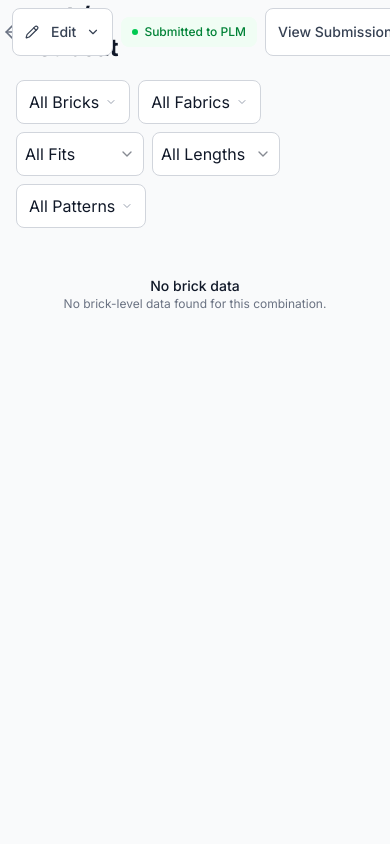
persisted PLM publication status › shows one submitted status before a PLM result (ACK requested: false)
Step 1. Click the button "View Submission" → (328,32), box [265,8,389,56]
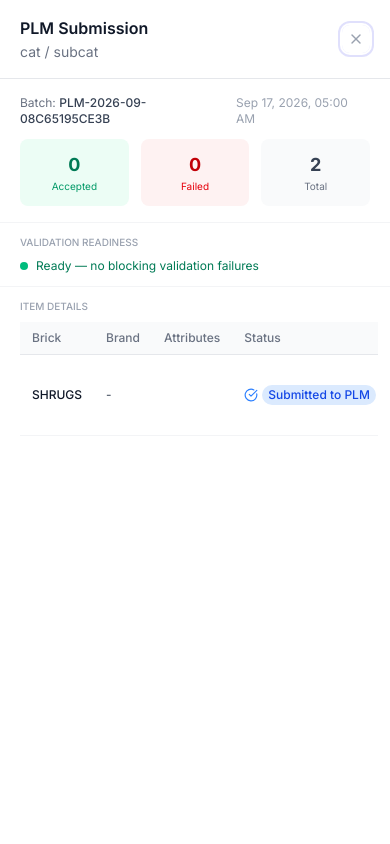
Now the text "PLM-2026-09-08C65195CE3B" is shown, box [20,95,146,126]
Now the cell "Submitted to PLM" is shown, box [232,354,378,436]
Now the text "Validation Readiness" is shown, box [20,236,138,248]
